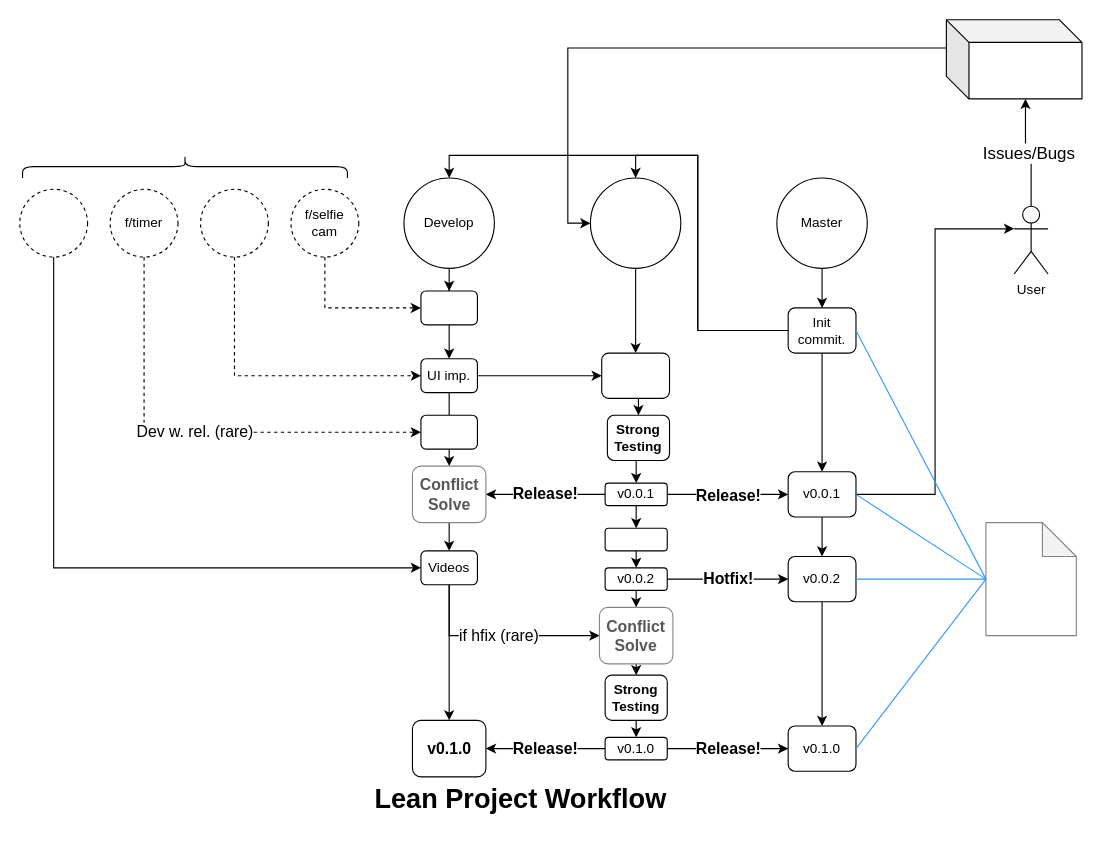
Image size: 1102x842. Some labels were removed from this diagram. Here are the shapes that lost their labels. From the top down, the centre of each, then its label:
At point 1013,59: "Github Issues".
At point 184,166: "Parallelization".
At point 53,222: "f/videos".
At point 233,222: "f/UI change.".
At point 635,222: "rel-test".
At point 448,307: "selfie-cam".
At point 635,375: "rel-v0.0.0".
At point 448,431: "timer".
At point 635,539: "hotfix-1".
At point 1030,578: "Document Each Release.".
